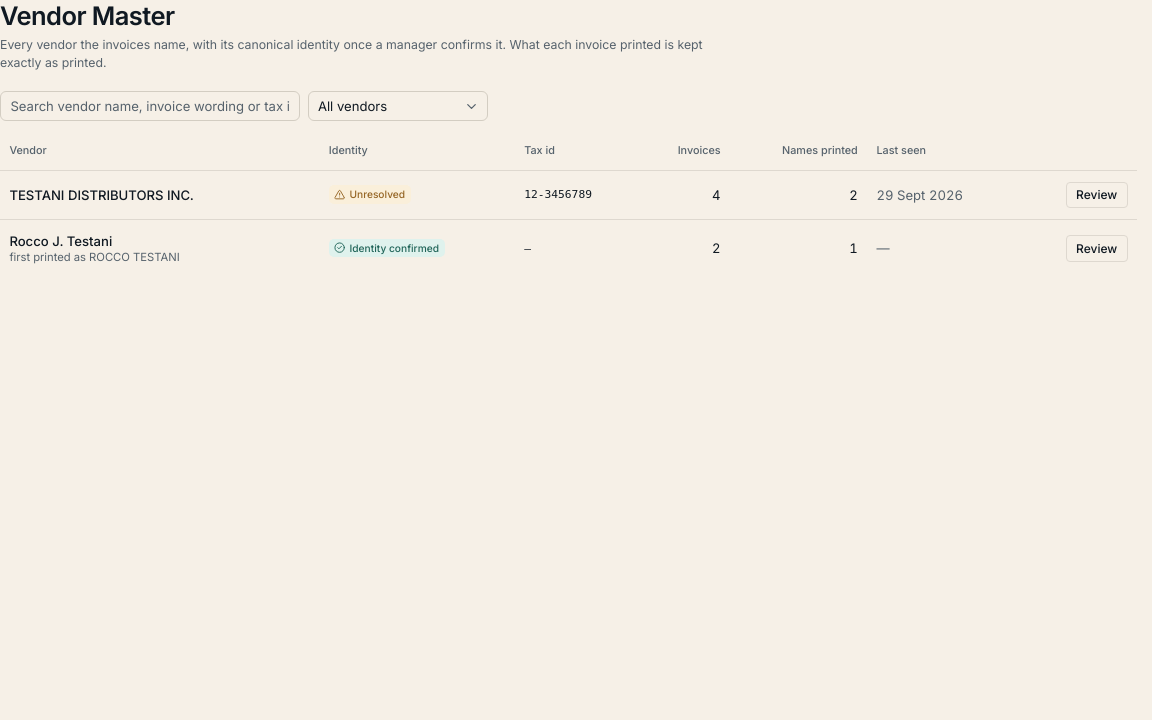
Test case: Vendor review › lets a USER see the evidence but not decide
Click the button "Review" in the row of "TESTANI DISTRIBUTORS INC.": (1097, 195) left=1066, top=182, right=1128, bottom=208
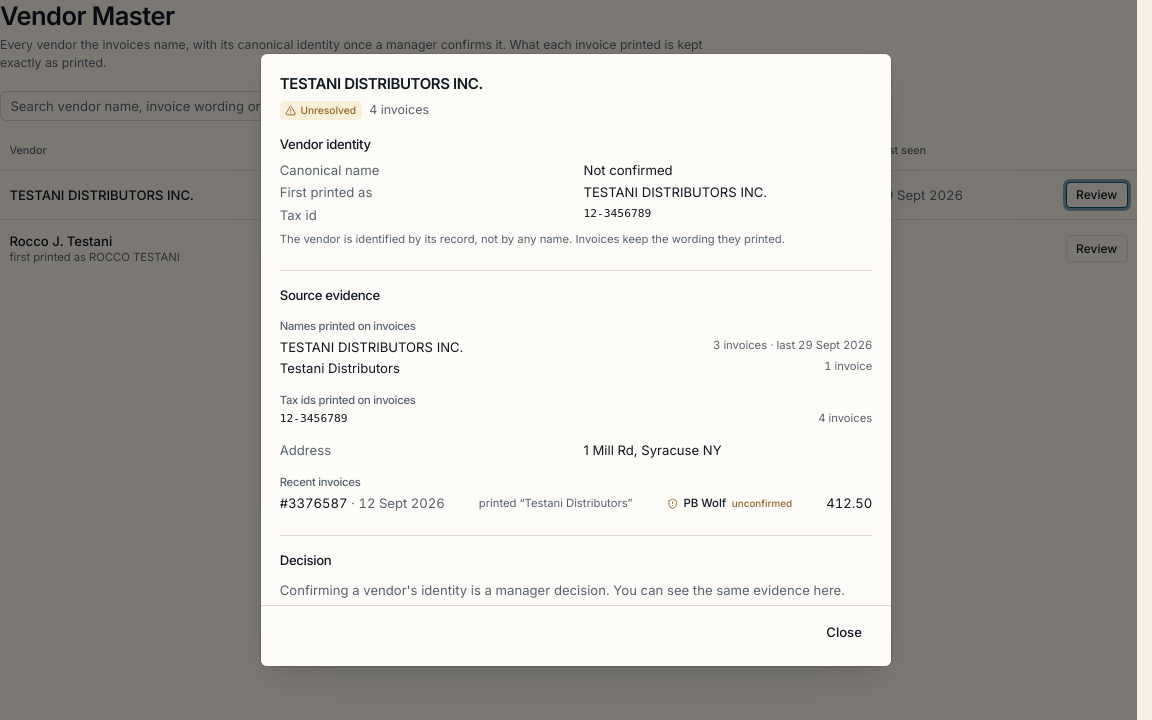
Check: the list with test id "observed-names" is shown, box left=280, top=338, right=872, bottom=378
Check: the text "manager decision" is shown, box left=280, top=582, right=845, bottom=598
